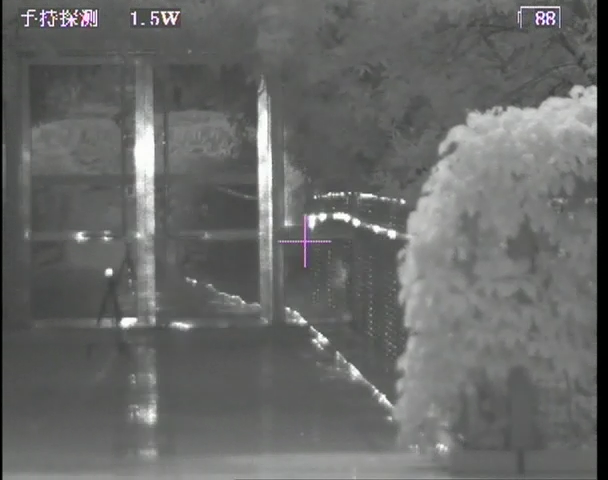my: (103, 266, 115, 278)
